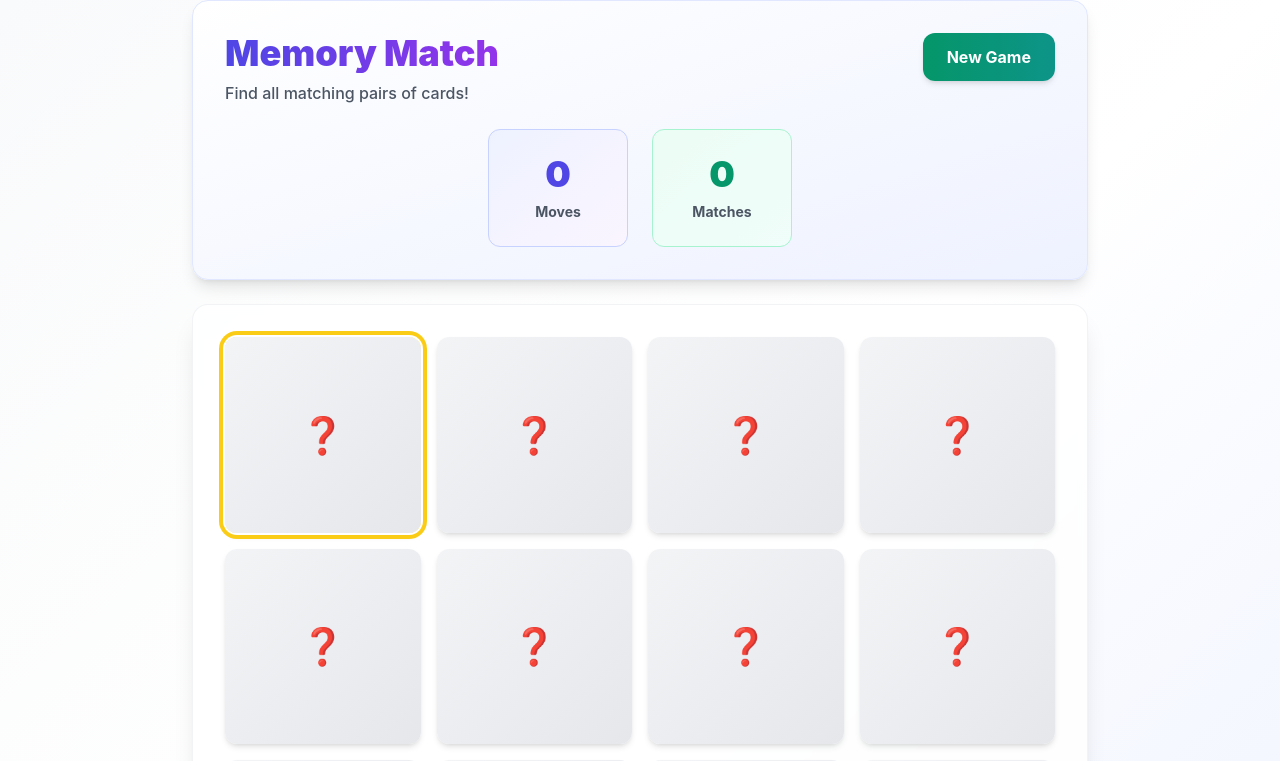
Test case: MemoryMatch Game › Card Flipping › flips a card when clicked
Click the 1st button "❓": (323, 435) [225,337,420,532]
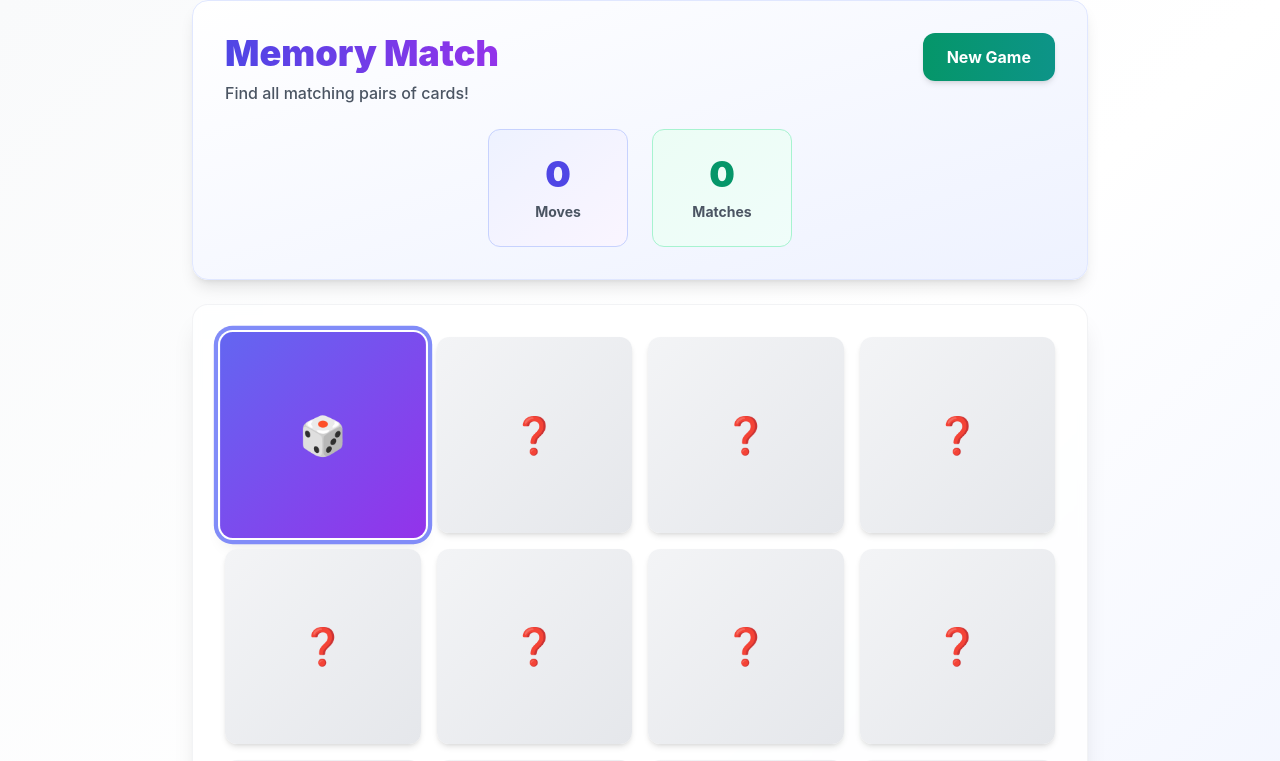
Check: the button no longer shows "❓"
